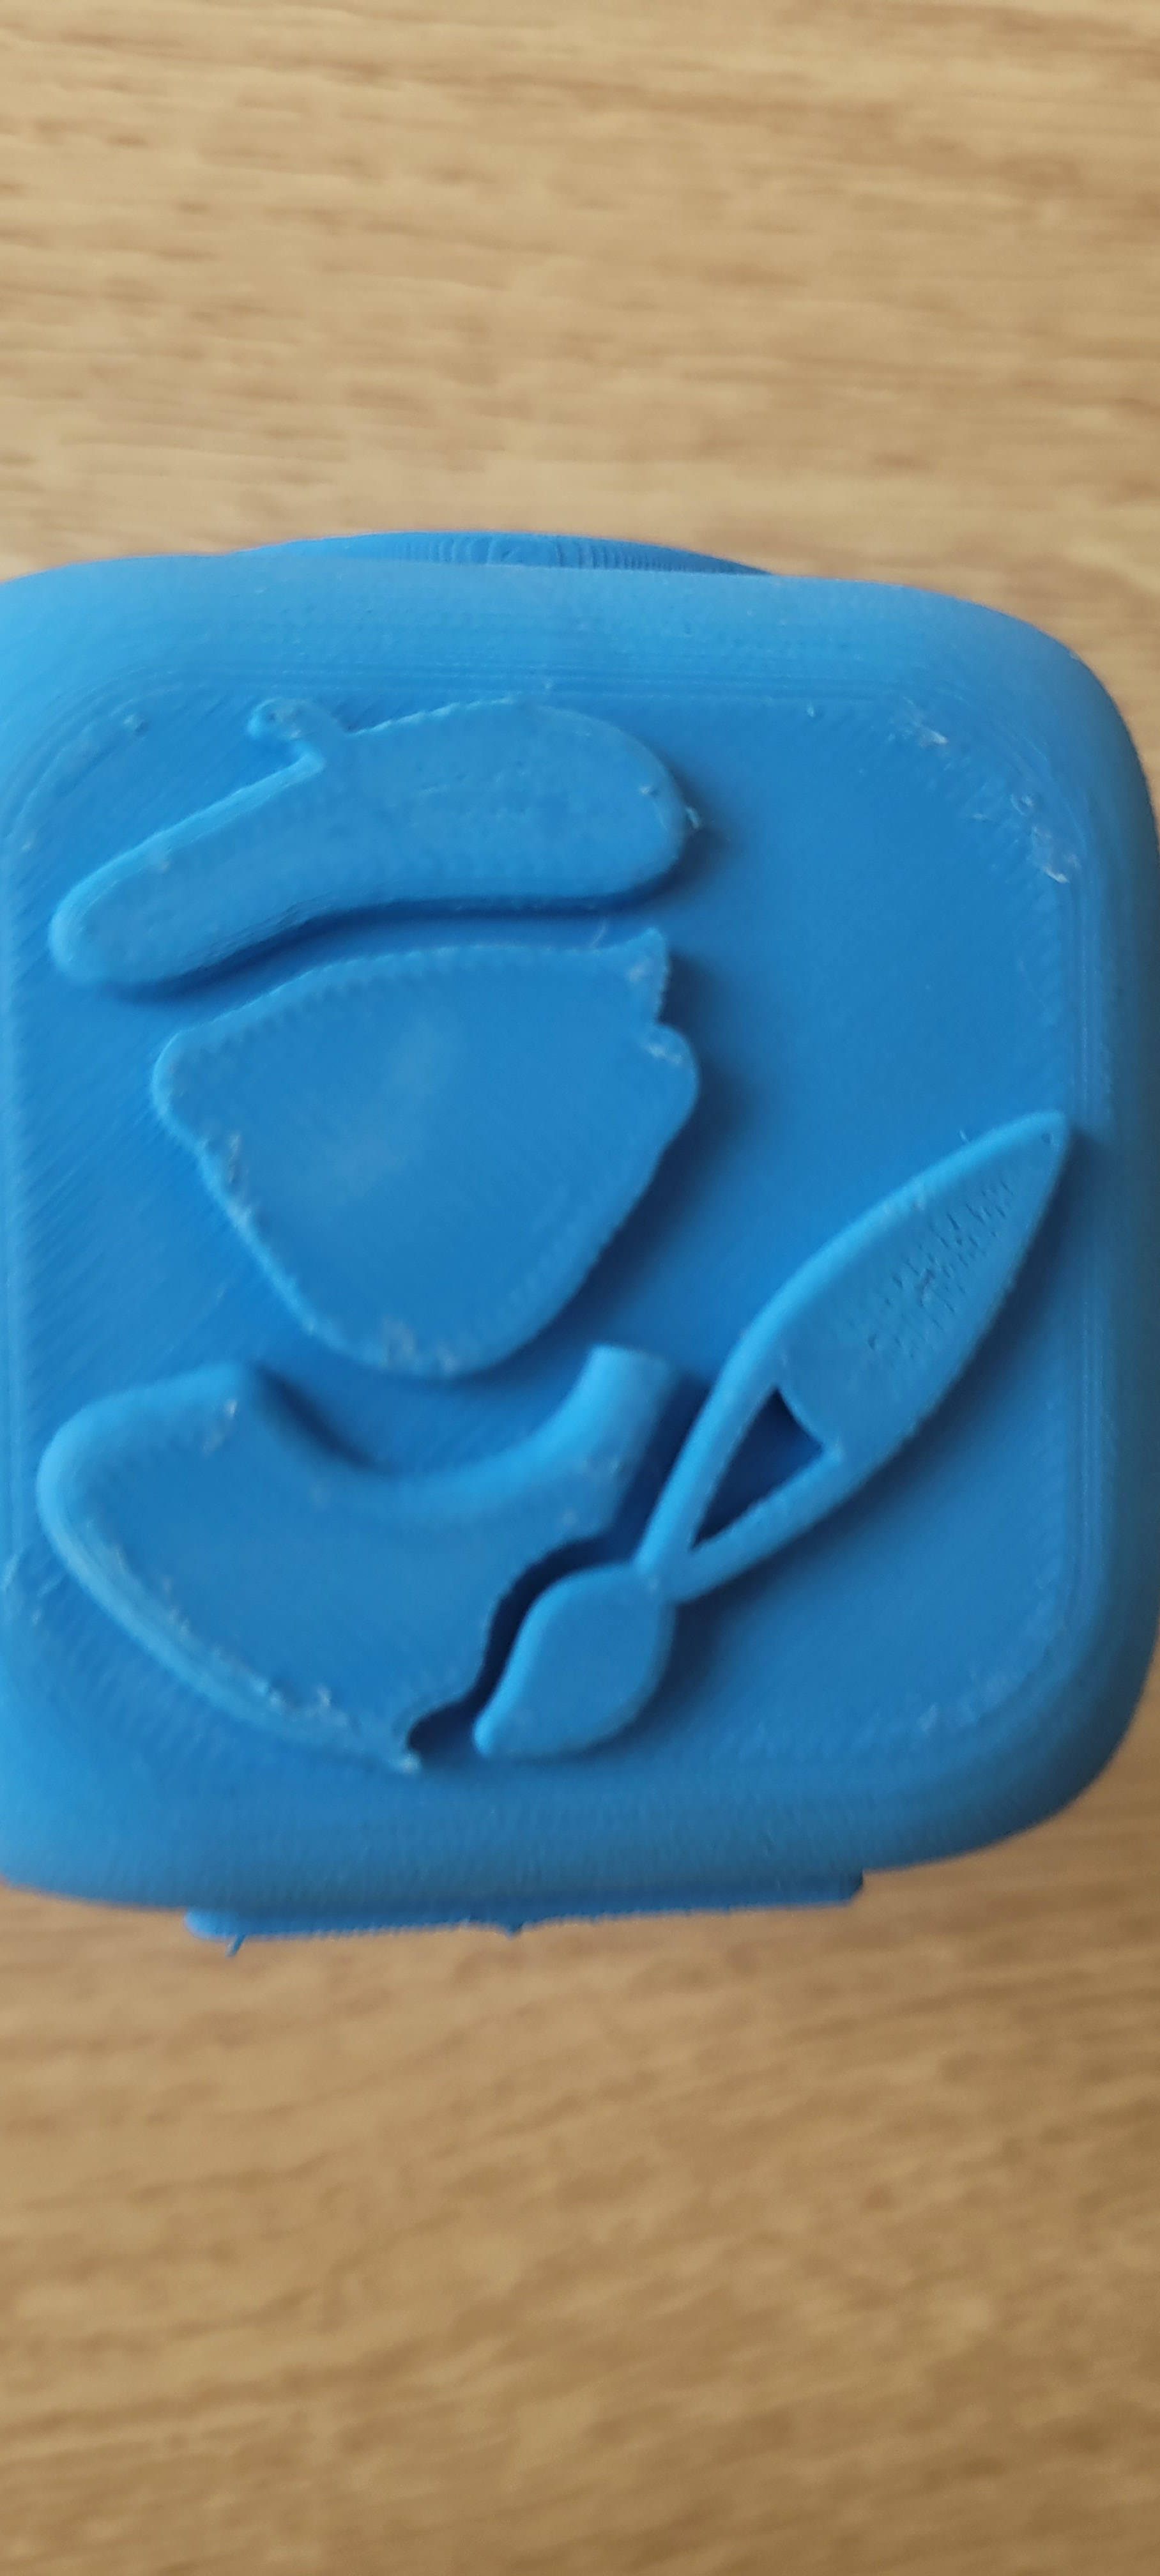Artist_Info: (23, 629, 1056, 1817)
